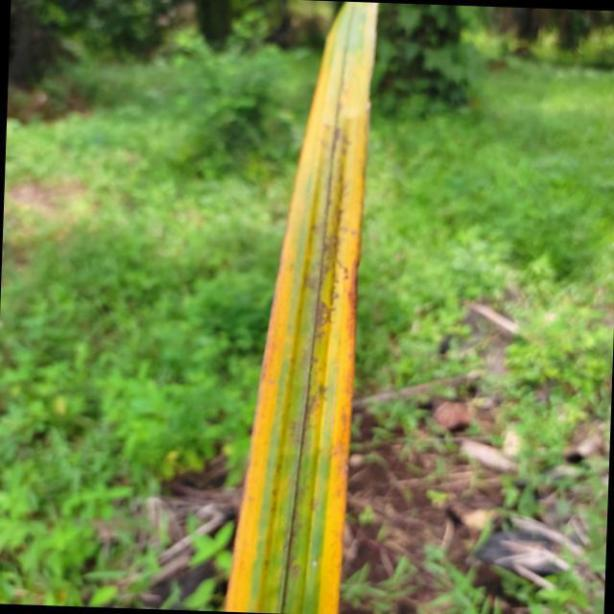Megnesium: (216, 0, 380, 614)
